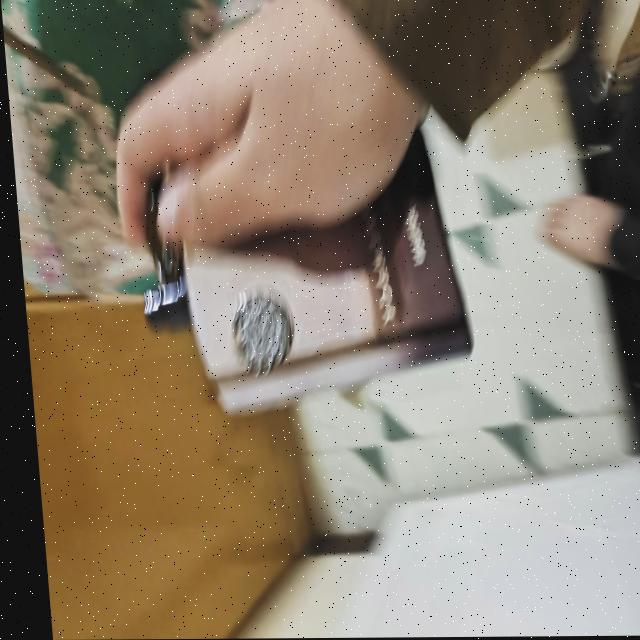Afnan: (142, 65, 640, 428), (164, 124, 472, 418), (127, 173, 184, 317)
